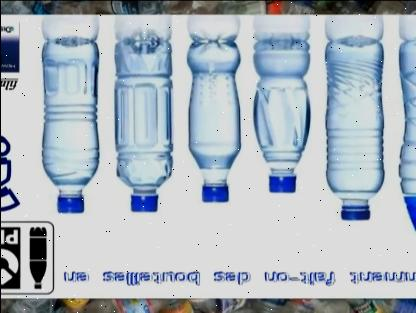Plastic Bottle: (326, 39, 384, 220), (113, 35, 171, 211), (41, 40, 97, 212), (186, 39, 239, 201), (254, 37, 309, 192)
